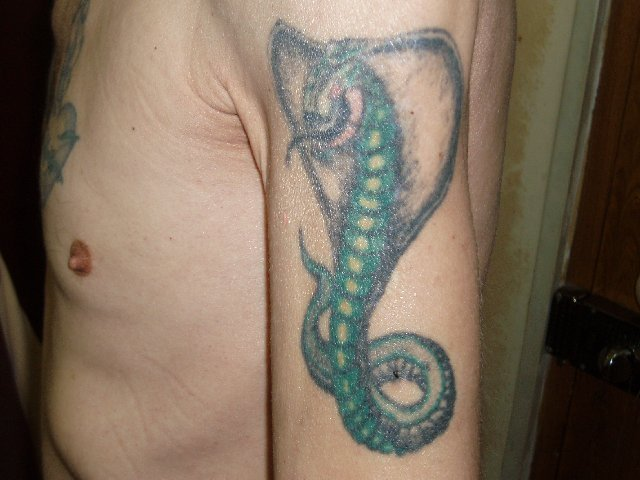tatu7_zmeya: (258, 18, 463, 456)
